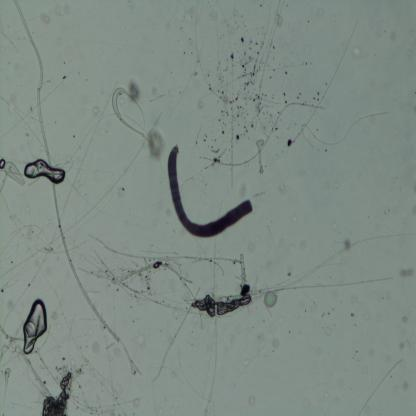Air bubble: (21, 298, 47, 357), (23, 159, 68, 184), (0, 157, 7, 168)
Background material: (189, 0, 294, 108), (0, 214, 53, 305), (193, 282, 265, 326), (35, 368, 77, 416), (83, 397, 123, 416), (0, 324, 20, 361), (0, 22, 20, 54), (148, 128, 164, 156), (128, 78, 146, 100), (270, 10, 289, 30), (267, 331, 281, 350), (151, 89, 163, 109), (238, 182, 250, 196), (388, 27, 398, 43), (312, 89, 323, 101), (57, 70, 68, 82), (398, 314, 409, 325), (41, 11, 51, 23), (344, 237, 351, 253), (254, 188, 268, 196), (382, 205, 392, 215), (118, 186, 126, 198), (324, 326, 332, 338), (354, 50, 363, 60), (249, 396, 257, 404), (348, 310, 355, 318), (279, 183, 286, 191), (400, 339, 405, 350), (93, 103, 98, 112), (355, 347, 361, 354), (296, 90, 301, 98), (327, 310, 333, 316), (283, 98, 288, 104)
Glass filter fibre: (51, 183, 144, 377), (200, 101, 326, 169), (287, 231, 416, 288), (60, 92, 112, 224), (12, 1, 53, 167), (151, 287, 201, 386), (316, 16, 364, 108), (301, 110, 390, 152), (118, 258, 197, 304), (116, 109, 163, 185), (356, 356, 406, 415), (280, 273, 396, 291), (110, 88, 148, 139), (202, 317, 221, 415), (17, 347, 52, 399), (4, 159, 25, 186), (1, 366, 13, 406), (237, 251, 248, 291), (255, 139, 265, 175), (262, 289, 278, 308)
Microfibre: (168, 145, 256, 239)
